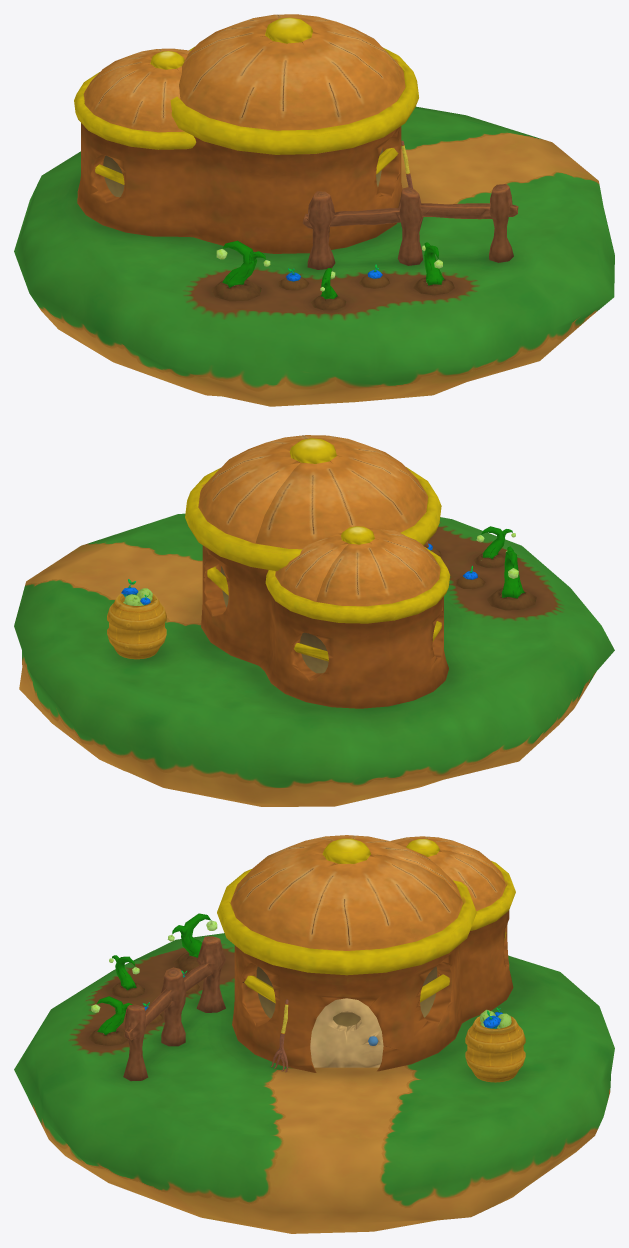
The model's file is Low-poly_Fantasy_Farmhouse.glb.
3 renders of one model, top to bottom at view 1: azimuth 30°, elevation 25°; view 2: azimuth 150°, elevation 25°; view 3: azimuth 270°, elevation 25°, orthographic.
Visible parts, largest first — view 1: unnamed (×6); view 2: unnamed (×5); view 3: unnamed (×6).
Part boxes in pixels (<box>): unnamed (×6): <box>14,14,614,406</box>; unnamed (×5): <box>14,435,614,806</box>; unnamed (×6): <box>14,835,614,1233</box>.
Bounding box in the file's own units: 109 × 62.64 × 108.
10 materials, 10 textured.
